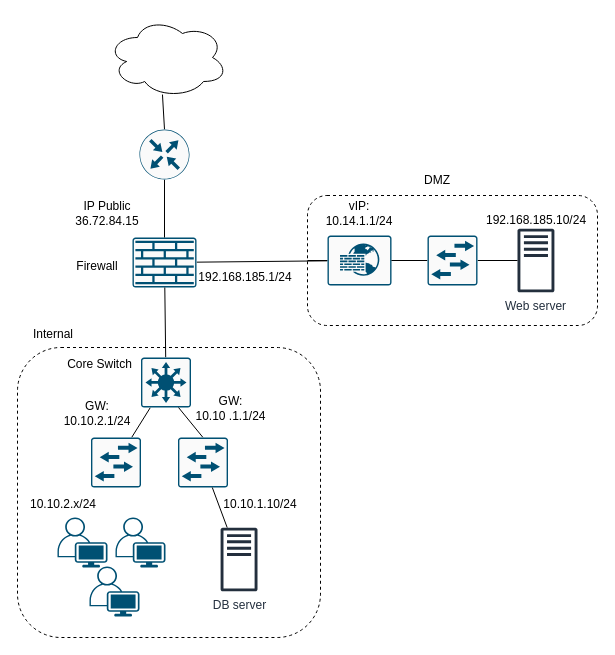
Image size: 615x655. Some labels were removed from this diagram. The box of each missing label's shape, as (x1, y1, x2, y2) in pixels:
Internet: (106, 16, 228, 98)
WAF + LB: (326, 234, 392, 286)
